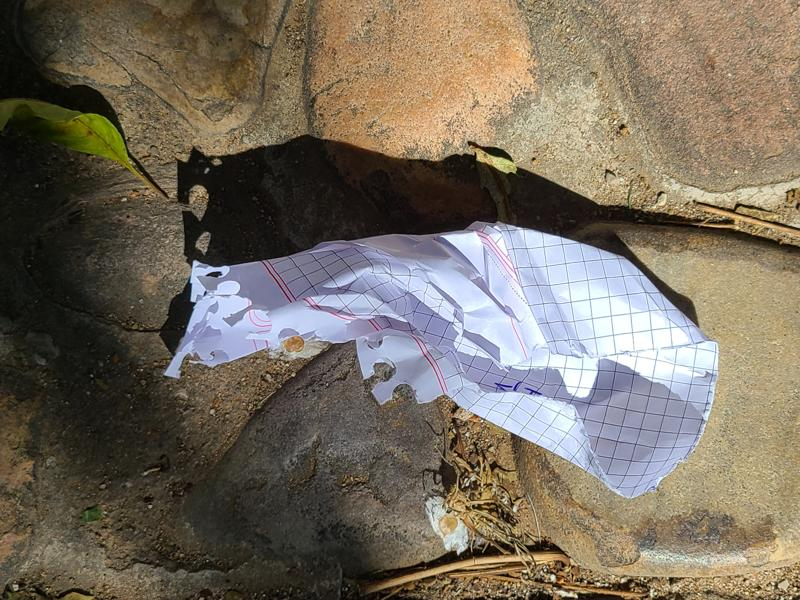papel: (169, 221, 721, 503)
